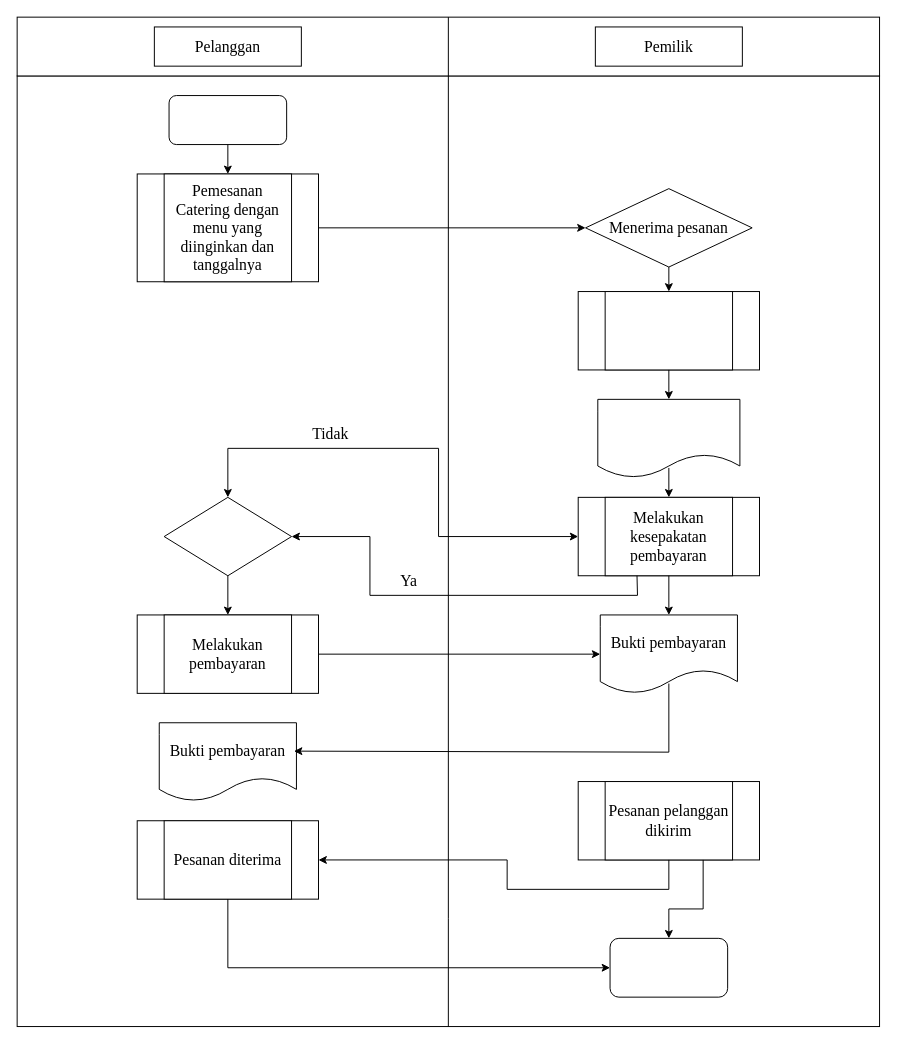
Image size: 897x1045. Some labels were removed from this diagram. Each missing label, with the centre of its shape:
Mencatat detail pesanan pelanggan: the point at 668,330
Mencetak catatan pesanan pelanggan: the point at 668,438
Mulai: the point at 227,120
Selesai: the point at 668,967
Setuju: the point at 227,536
